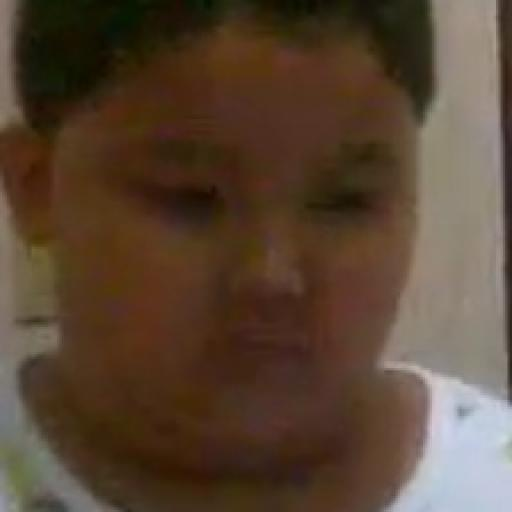Autism: (35, 10, 437, 470)
